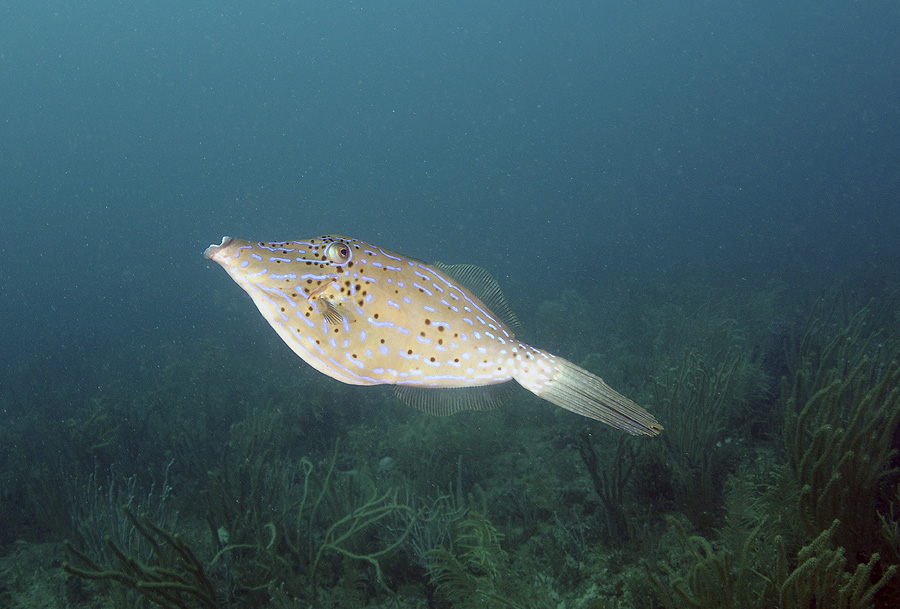Aluterus_scriptus: (184, 219, 668, 444)
